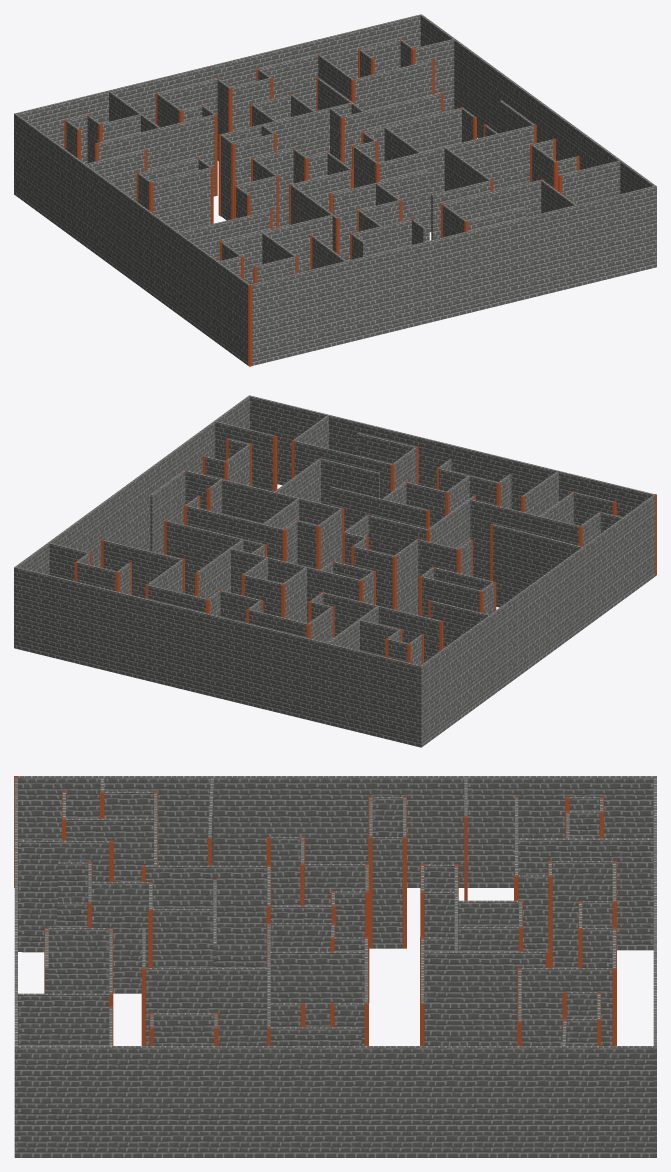
File: MAZE ATTEMPT 2.fbx
3 renders of one model, top to bottom at view 1: azimuth 30°, elevation 25°; view 2: azimuth 150°, elevation 25°; view 3: azimuth 270°, elevation 25°, orthographic. The views are drawn at different scales.
Parts seen in each view (by area): view 1: maze-1; view 2: maze-1; view 3: maze-1.
Boxes of the visible parts, x1=… form: maze-1: x1=14, y1=14, x2=656, y2=366; maze-1: x1=14, y1=395, x2=656, y2=747; maze-1: x1=14, y1=776, x2=656, y2=1157.
Size of the model in its own units: 7271 by 1379 by 7280.
2 materials, 1 textured.
